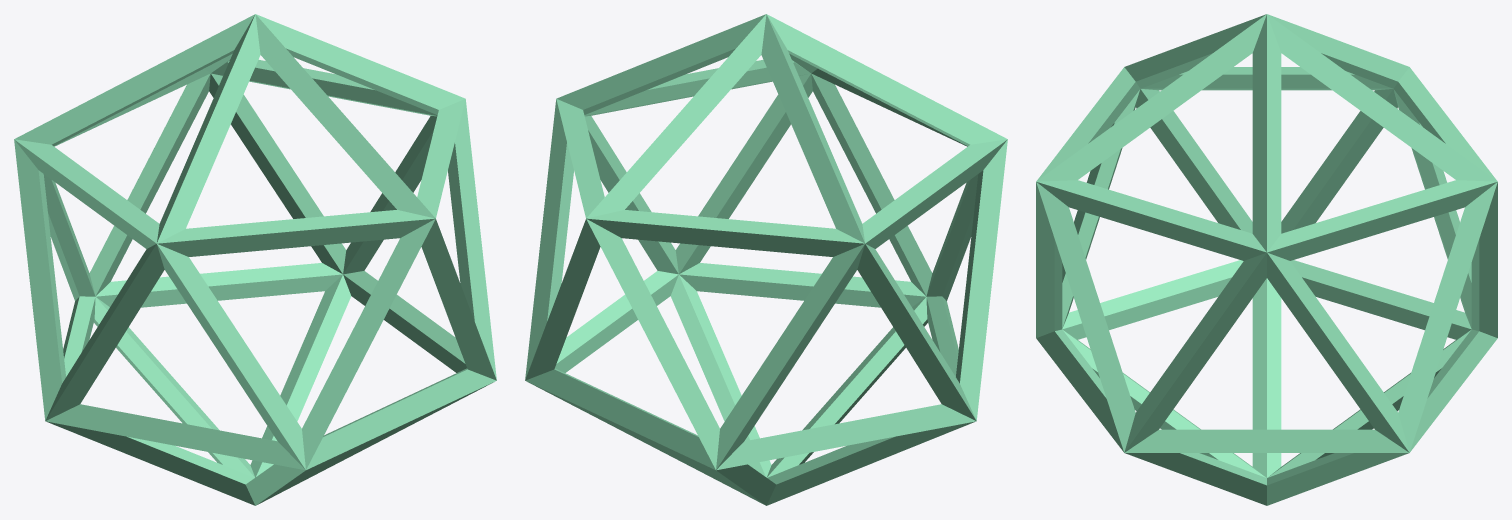
Rendered from geodesic_cage.glb.
3 views of the same model, side by side, from view 1: azimuth 30°, elevation 25°; view 2: azimuth 150°, elevation 25°; view 3: azimuth 270°, elevation 25° (orthographic).
Visible parts, largest first — view 1: geodesic_cage.001; view 2: geodesic_cage.001; view 3: geodesic_cage.001.
Boxes of the visible parts, box(x1,y1,x2,y2) form: geodesic_cage.001: box(14, 14, 496, 505); geodesic_cage.001: box(525, 14, 1007, 505); geodesic_cage.001: box(1036, 14, 1497, 505).
Bounding box in the file's own units: 0.6261 × 0.7 × 0.5954.
